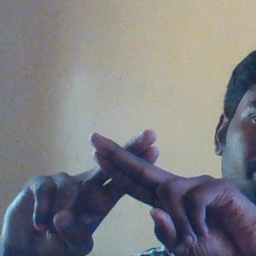F: (52, 118, 197, 245)
